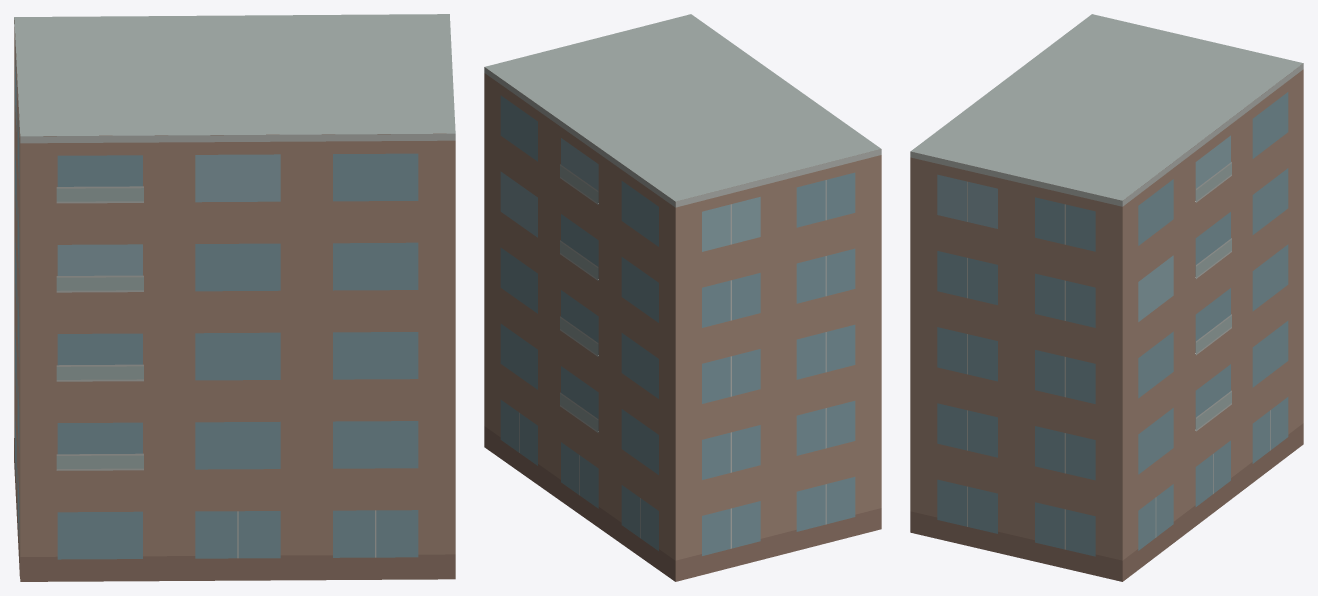
Rendered from survey-upis-32878418.glb.
The picture shows the model from 3 angles, left to right: view 1: azimuth 30°, elevation 25°; view 2: azimuth 150°, elevation 25°; view 3: azimuth 270°, elevation 25°; orthographic projection. The views are drawn at different scales.
Parts seen in each view (by area): view 1: survey-upis-32878418.tmp; view 2: survey-upis-32878418.tmp; view 3: survey-upis-32878418.tmp.
Boxes of the visible parts, x1,y1,x2,y2 form: survey-upis-32878418.tmp: (14, 14, 455, 581); survey-upis-32878418.tmp: (484, 14, 881, 581); survey-upis-32878418.tmp: (910, 14, 1303, 581).
Size of the model in its own units: 16.19 by 15.4 by 14.41.
